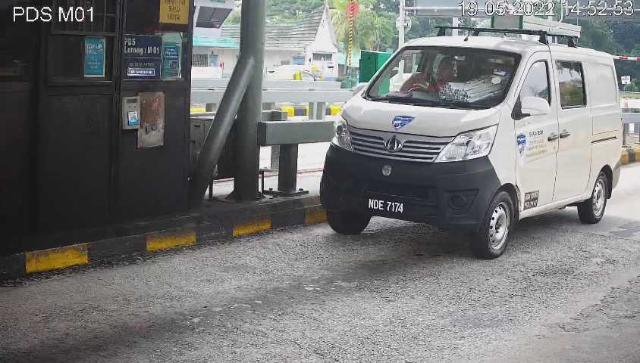License_Plate: (363, 196, 410, 220)
van: (320, 38, 624, 261)
